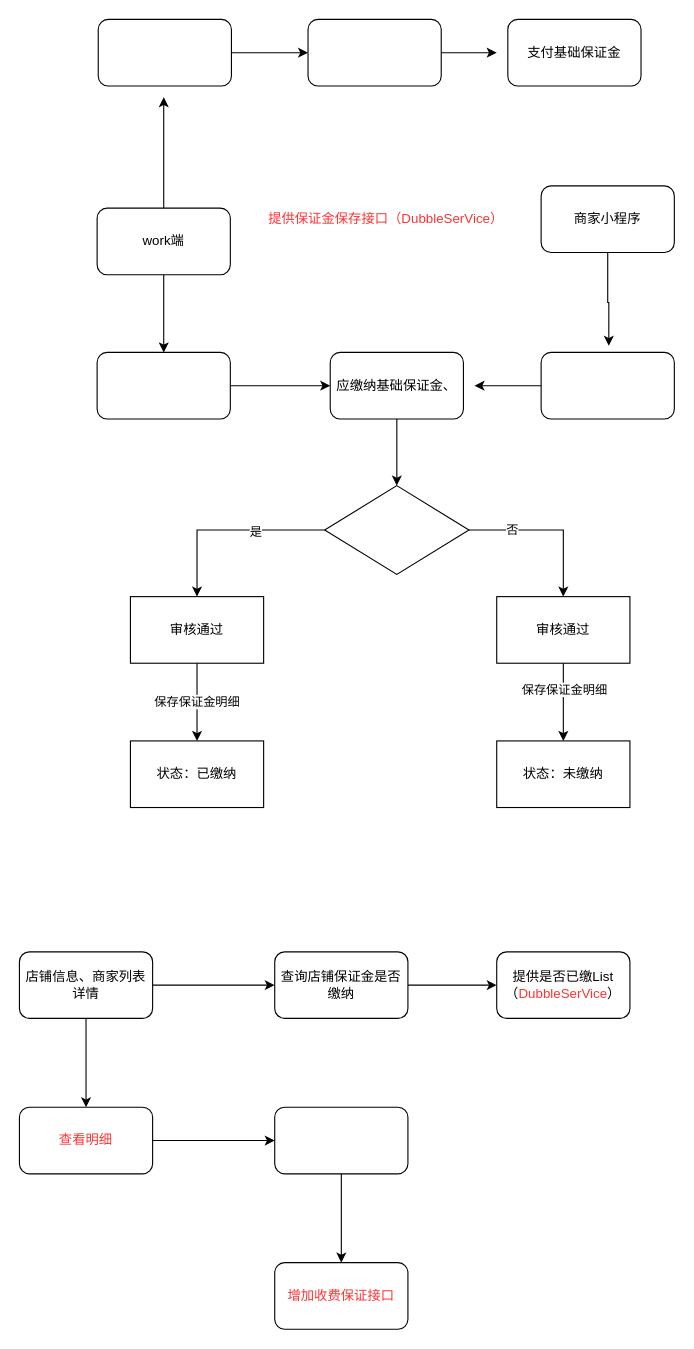
This 694x1349 diagram has some shape labels left out. The centre of each missing label's shape, as x and y in pixels:
"商家入驻" belongs at point 607,385.
"商家审核、店铺审核" belongs at point 163,385.
"商家登录-未交保证金" belongs at point 164,52.
"支付拦截" belongs at point 374,52.
"明细列表（VO）" belongs at point 341,1140.
"线下收款是否已收" belongs at point 396,529.
